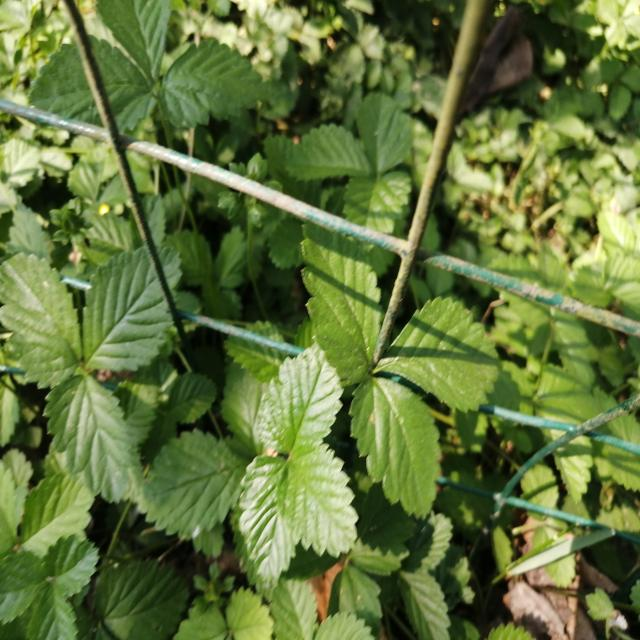Mock_strawberry: (303, 238, 477, 494)
